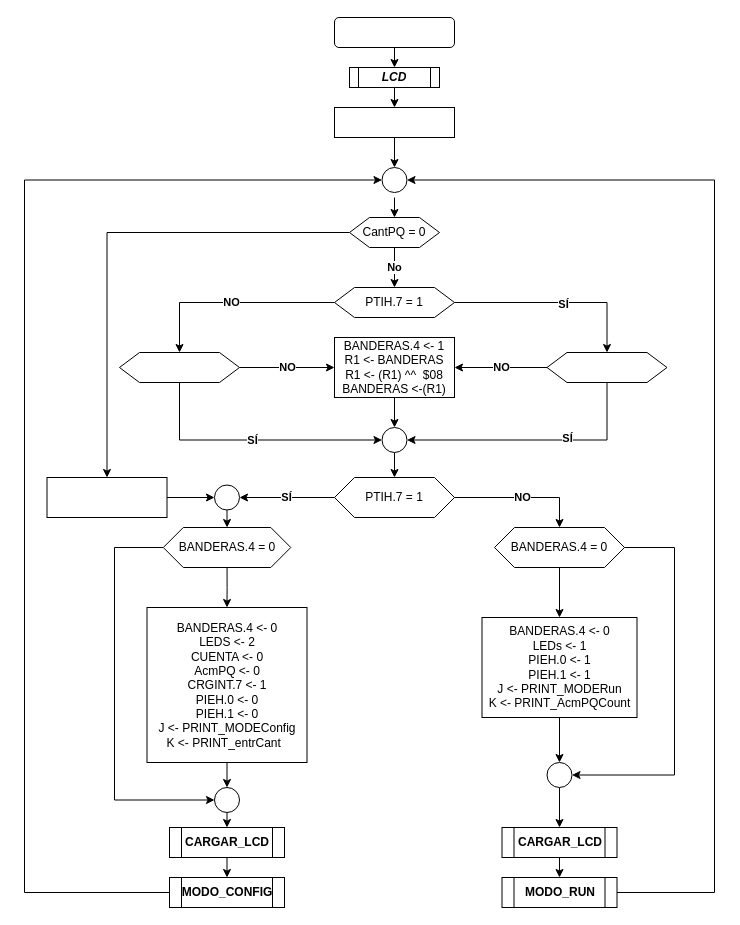
Some shapes in this 740 by 925 pixel diagram are drawn without their labels. The shapes that lost their labels are listed below. From the top down, each one's centre as x and y in pixels, then its label:
[394,32]: MAIN
[394,122]: BANDERAS.4 <- 1
[179,367]: BANDERAS.3 = 0
[606,367]: BANDERAS.3 = 1
[106,497]: BANDERAS.3 <- 1
